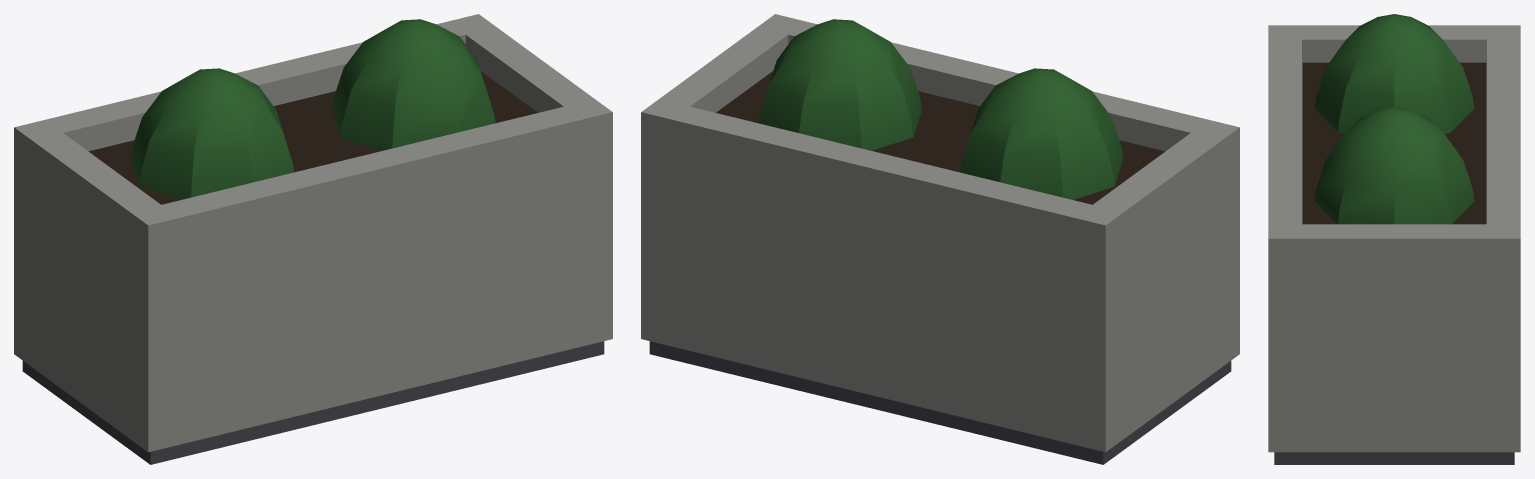
File: gteki_street_planter_box_1200x600_h600.glb
3 renders of one model, left to right at view 1: azimuth 30°, elevation 25°; view 2: azimuth 150°, elevation 25°; view 3: azimuth 270°, elevation 25°, orthographic. The views are drawn at different scales.
Visible parts, largest first — view 1: VIS_body; view 2: VIS_body; view 3: VIS_body.
Boxes of the visible parts, <box> form: VIS_body: <box>14,14,612,464</box>; VIS_body: <box>641,14,1239,464</box>; VIS_body: <box>1268,14,1520,464</box>.
Size of what is drawn, in the model's own units: 1.2 by 0.7807 by 0.6.
1 material, 1 textured.
